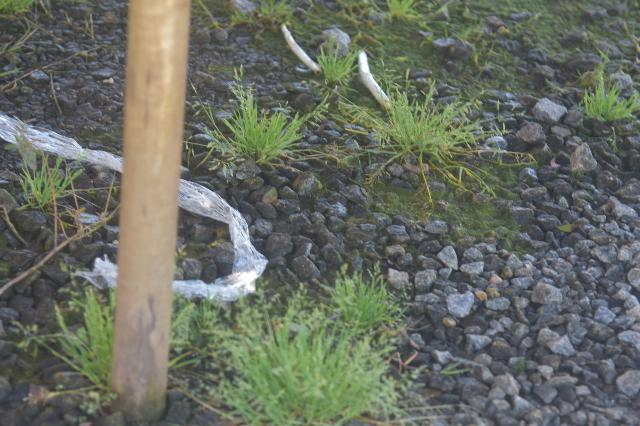MalezaMontesDelPlata: (197, 294, 395, 426), (362, 75, 491, 173), (190, 87, 309, 168), (328, 257, 410, 337), (9, 146, 92, 219), (311, 34, 363, 101), (573, 78, 640, 127)
